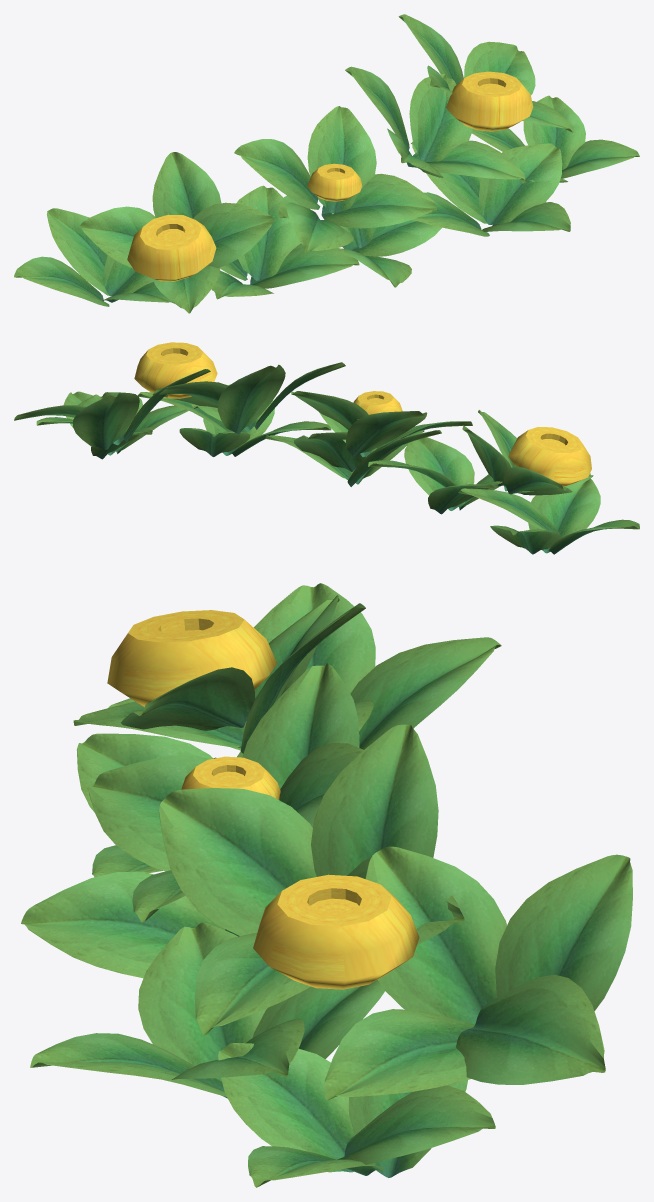
The model's file is PlantOnRoof02.fbx.
3 renders of one model, top to bottom at view 1: azimuth 30°, elevation 25°; view 2: azimuth 150°, elevation 25°; view 3: azimuth 270°, elevation 25°, orthographic. The views are drawn at different scales.
Parts seen in each view (by area): view 1: polySurface48, polySurface50, polySurface51, polySurface52, polySurface49, polySurface47, polySurface54, Cylinder2212, polySurface53, Cylinder13, polySurface45, Cylinder2211; view 2: polySurface49, polySurface52, polySurface47, polySurface48, polySurface54, Cylinder2212, polySurface45, polySurface50, polySurface51, Cylinder13, polySurface53, Cylinder2211; view 3: polySurface54, polySurface52, polySurface51, polySurface53, polySurface48, Cylinder13, polySurface49, polySurface50, polySurface45, Cylinder2212, polySurface47, Cylinder2211.
Boxes of the visible parts, x1=… form: polySurface48: x1=234, y1=106, x2=436, y2=252; polySurface50: x1=79, y1=152, x2=274, y2=313; polySurface51: x1=411, y1=142, x2=570, y2=236; polySurface52: x1=345, y1=66, x2=525, y2=180; polySurface49: x1=14, y1=208, x2=174, y2=306; polySurface47: x1=211, y1=185, x2=359, y2=299; polySurface54: x1=398, y1=14, x2=573, y2=132; Cylinder2212: x1=127, y1=214, x2=216, y2=281; polySurface53: x1=472, y1=95, x2=639, y2=183; Cylinder13: x1=446, y1=71, x2=533, y2=131; polySurface45: x1=277, y1=196, x2=441, y2=287; Cylinder2211: x1=307, y1=163, x2=362, y2=201; polySurface49: x1=458, y1=478, x2=639, y2=554; polySurface52: x1=152, y1=362, x2=345, y2=433; polySurface47: x1=368, y1=437, x2=502, y2=514; polySurface48: x1=291, y1=391, x2=472, y2=457; polySurface54: x1=14, y1=369, x2=210, y2=449; Cylinder2212: x1=508, y1=427, x2=591, y2=486; polySurface45: x1=265, y1=430, x2=441, y2=486; polySurface50: x1=462, y1=410, x2=593, y2=495; polySurface51: x1=137, y1=384, x2=331, y2=456; Cylinder13: x1=134, y1=342, x2=217, y2=398; polySurface53: x1=36, y1=391, x2=198, y2=459; Cylinder2211: x1=353, y1=391, x2=402, y2=419; polySurface54: x1=324, y1=846, x2=632, y2=1100; polySurface52: x1=159, y1=724, x2=464, y2=1035; polySurface51: x1=30, y1=922, x2=384, y2=1098; polySurface53: x1=217, y1=1043, x2=495, y2=1187; polySurface48: x1=88, y1=663, x2=363, y2=922; Cylinder13: x1=253, y1=874, x2=419, y2=989; polySurface49: x1=108, y1=583, x2=501, y2=750; polySurface50: x1=73, y1=595, x2=365, y2=753; polySurface45: x1=21, y1=757, x2=313, y2=978; Cylinder2212: x1=107, y1=610, x2=277, y2=706; polySurface47: x1=77, y1=733, x2=359, y2=877; Cylinder2211: x1=181, y1=756, x2=280, y2=799.
Size of the model in its own units: 420 by 101 by 192.
Materials: 2 (2 with a texture image).
